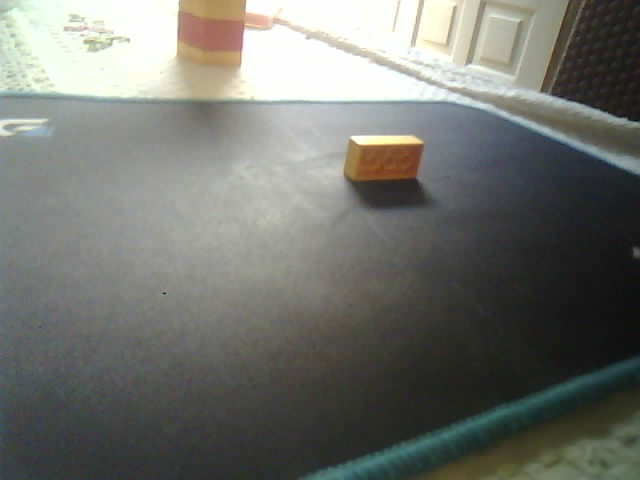lego: (176, 1, 246, 68), (342, 134, 426, 183)
